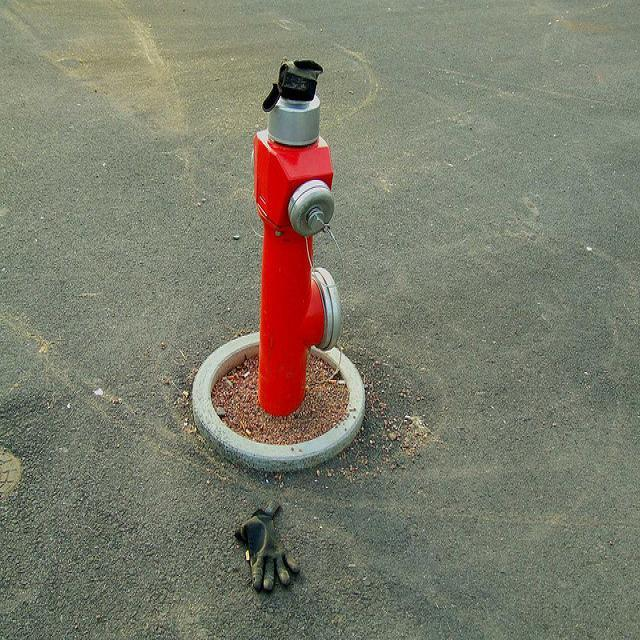fire_hydrant: (249, 51, 347, 428)
